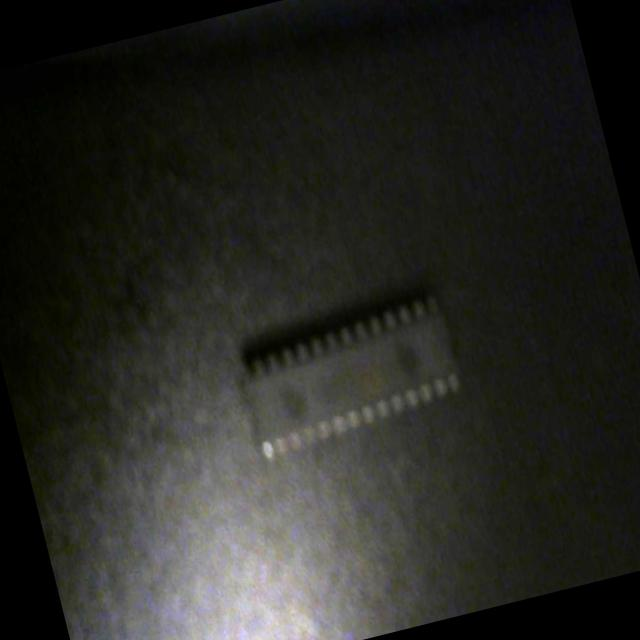atmega: (218, 292, 478, 468)
